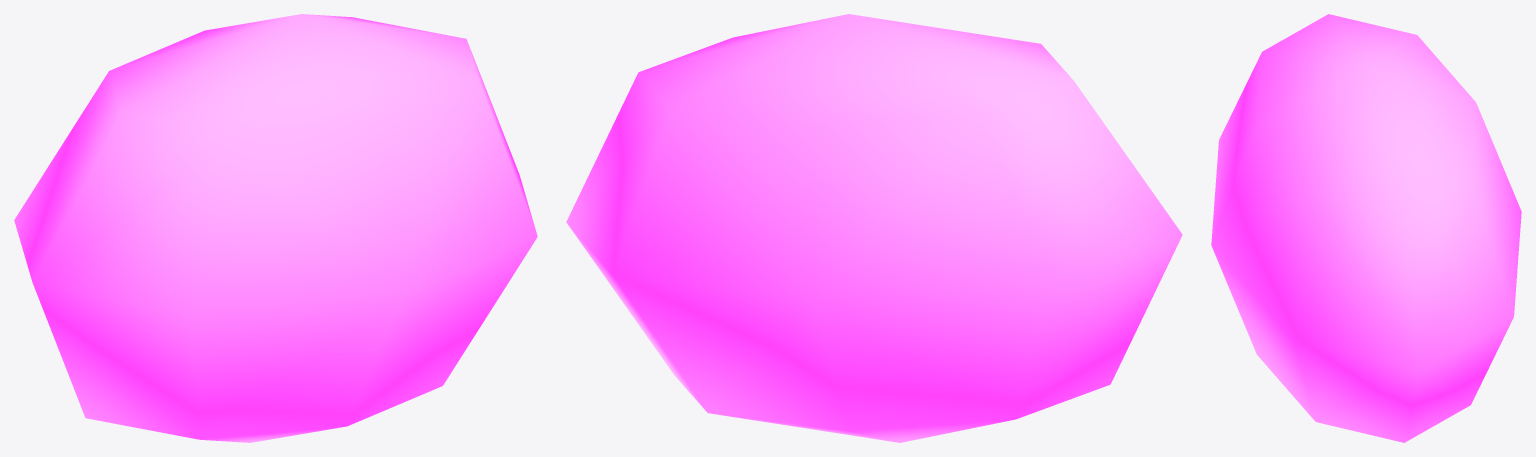
3 views of the same model, side by side, from view 1: azimuth 30°, elevation 25°; view 2: azimuth 150°, elevation 25°; view 3: azimuth 270°, elevation 25° (orthographic). The views are drawn at different scales.
Parts seen in each view (by area): view 1: Sphere240_Material_0_0; view 2: Sphere240_Material_0_0; view 3: Sphere240_Material_0_0.
Boxes of the visible parts, x1=… form: Sphere240_Material_0_0: x1=14, y1=14, x2=537, y2=442; Sphere240_Material_0_0: x1=566, y1=14, x2=1182, y2=442; Sphere240_Material_0_0: x1=1211, y1=14, x2=1521, y2=442.
Size of the model in its own units: 0.0286 by 0.0206 by 0.0169.
Materials: 1 (1 with a texture image).
